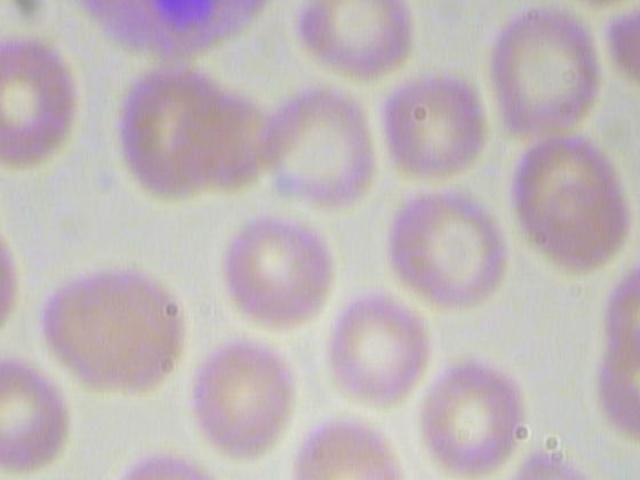RBC: (34, 255, 191, 392), (506, 127, 633, 272), (482, 0, 609, 144), (219, 200, 338, 333), (388, 183, 507, 315), (189, 331, 308, 463), (253, 83, 380, 204), (379, 64, 490, 187), (418, 357, 529, 479), (321, 289, 431, 412), (0, 33, 81, 178), (0, 342, 78, 480), (293, 0, 420, 80)
WBC: (43, 0, 300, 65)
